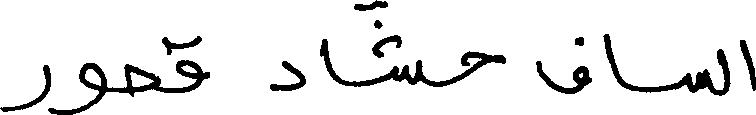X: (537, 32, 587, 98), (53, 58, 105, 114), (0, 60, 51, 114), (175, 31, 202, 97), (394, 30, 421, 89), (462, 46, 504, 83), (124, 59, 159, 101), (268, 56, 305, 95), (605, 29, 622, 91), (739, 35, 755, 95), (687, 64, 711, 97), (322, 34, 337, 86), (717, 44, 729, 100)
